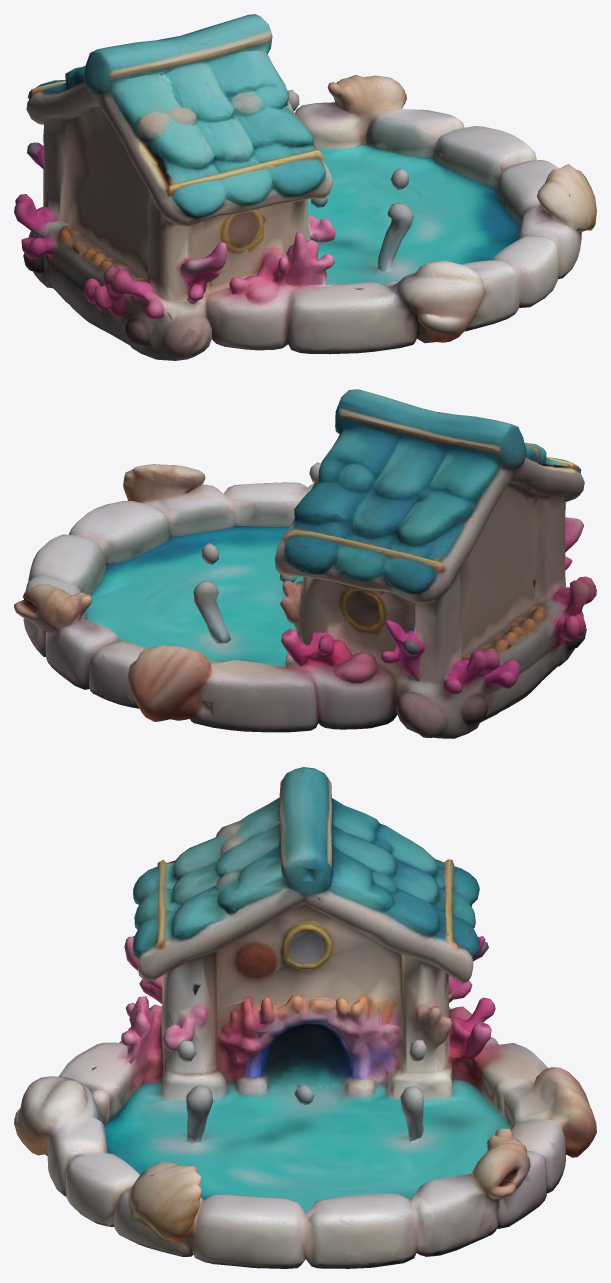
Rendered from spring.glb.
3 renders of one model, top to bottom at view 1: azimuth 30°, elevation 25°; view 2: azimuth 150°, elevation 25°; view 3: azimuth 270°, elevation 25°, orthographic. The views are drawn at different scales.
Visible parts, largest first — view 1: low; view 2: low; view 3: low.
Boxes of the visible parts, box(x1,y1,x2,y2) form: low: box(14, 14, 596, 360); low: box(14, 389, 596, 738); low: box(14, 767, 596, 1268).
Bounding box in the file's own units: 3.84 × 2 × 3.72.
1 material, 1 textured.
